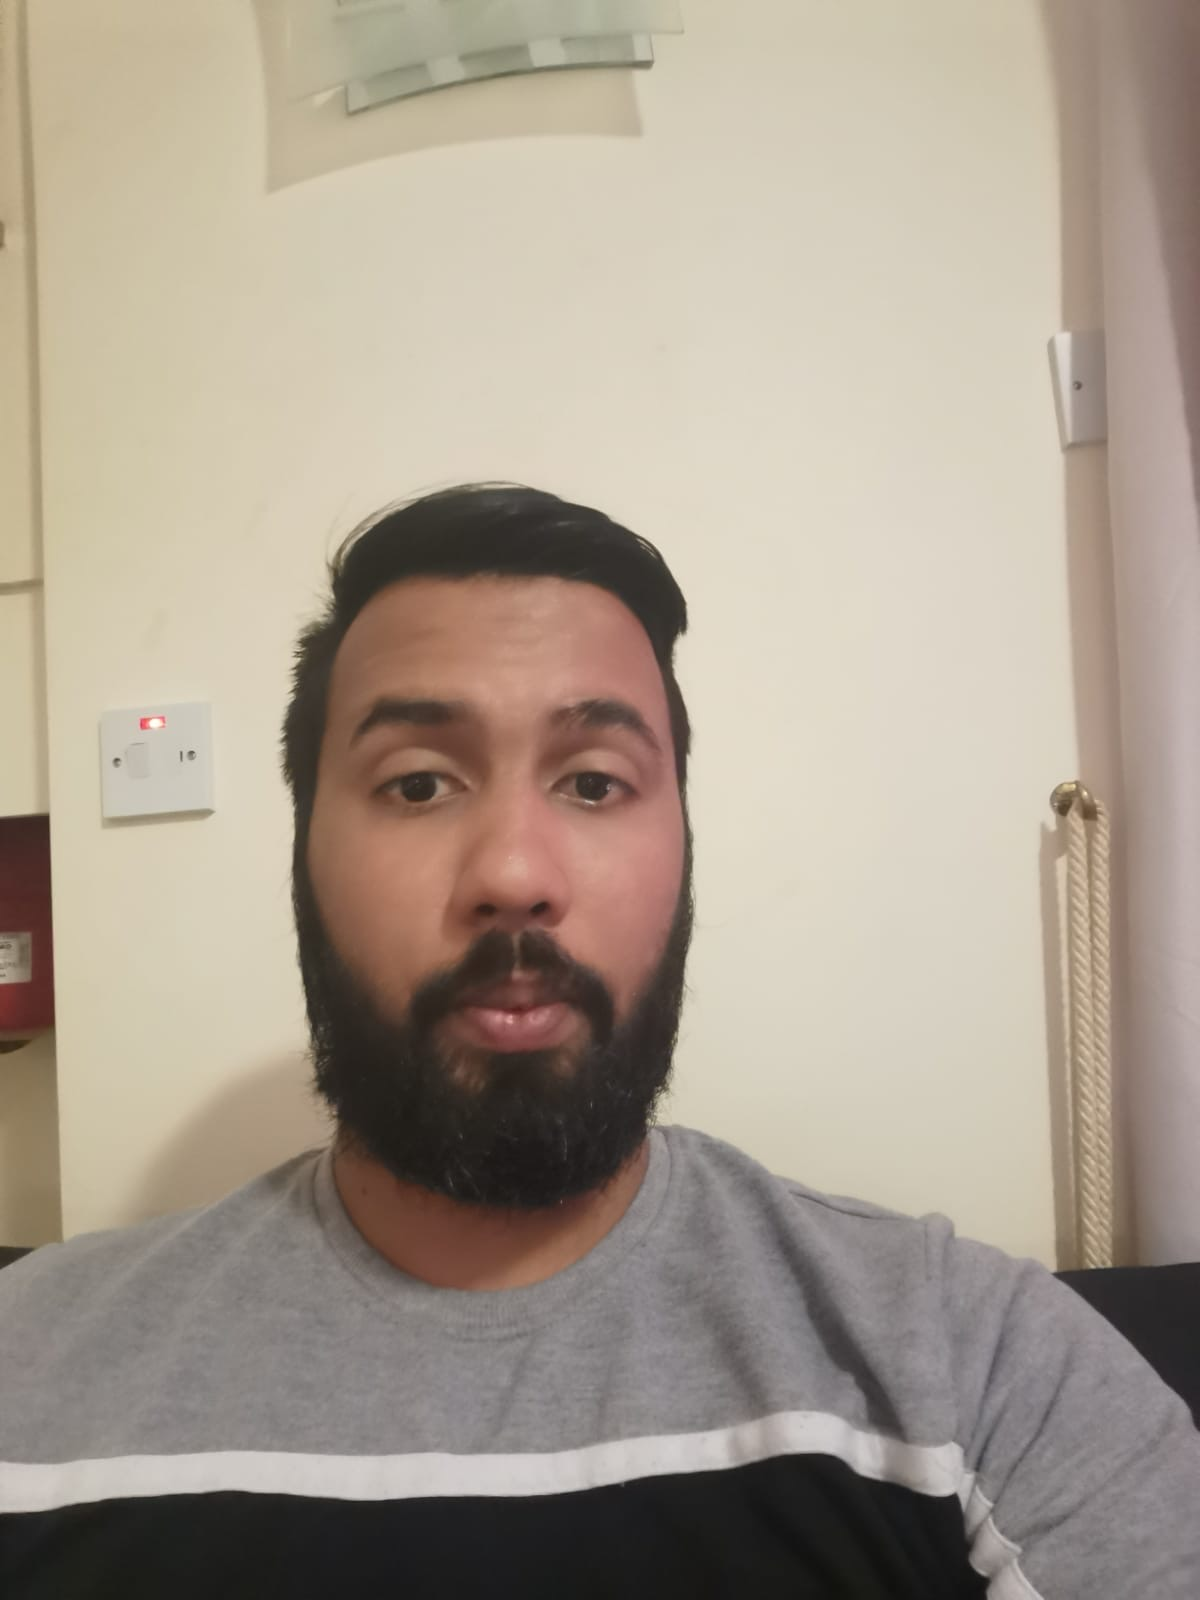Not Sleeping: (329, 716, 671, 837)
